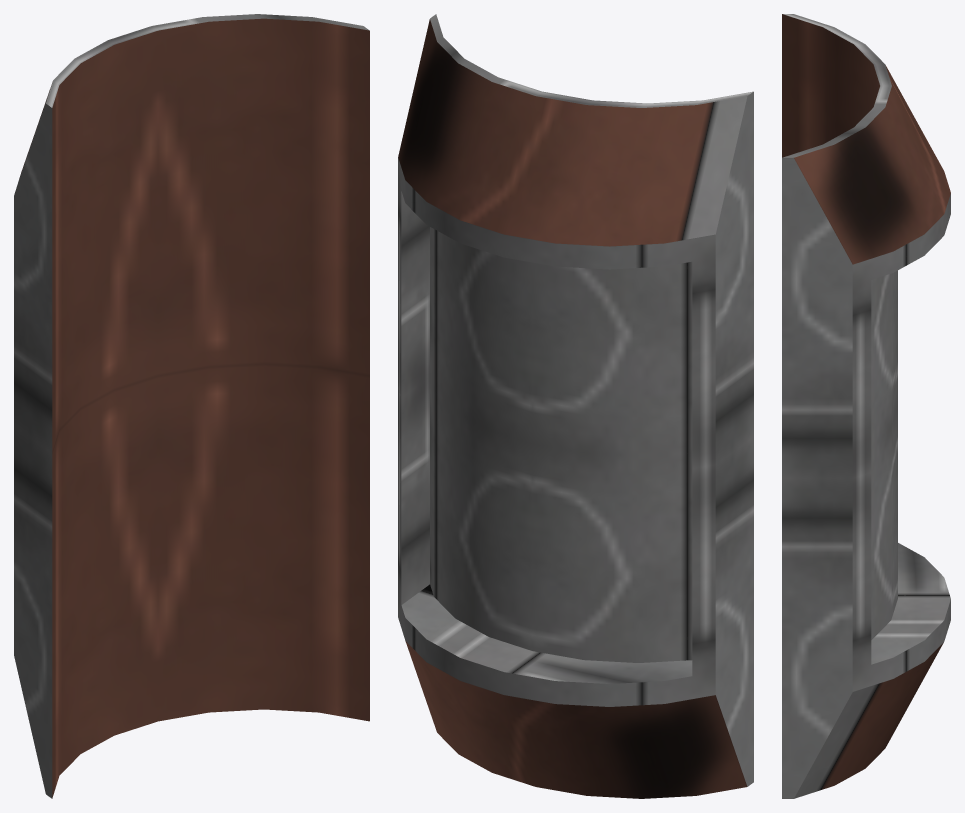
Rendered from hydra_lv_recovery_bay_srf_1.obj.
3 views of the same model, side by side, from view 1: azimuth 30°, elevation 25°; view 2: azimuth 150°, elevation 25°; view 3: azimuth 270°, elevation 25° (orthographic). The views are drawn at different scales.
Visible parts, largest first — view 1: 1; view 2: 1; view 3: 1.
Boxes of the visible parts, x1,y1,x2,y2 form: 1: [14, 14, 369, 798]; 1: [398, 14, 753, 798]; 1: [782, 14, 950, 798].
Bounding box in the file's own units: 2.17 × 4.5 × 1.08.
